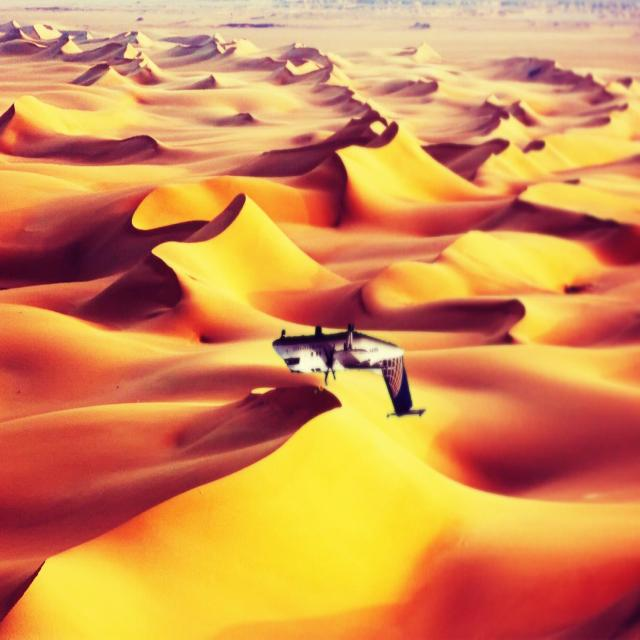airplane: (272, 321, 426, 418)
